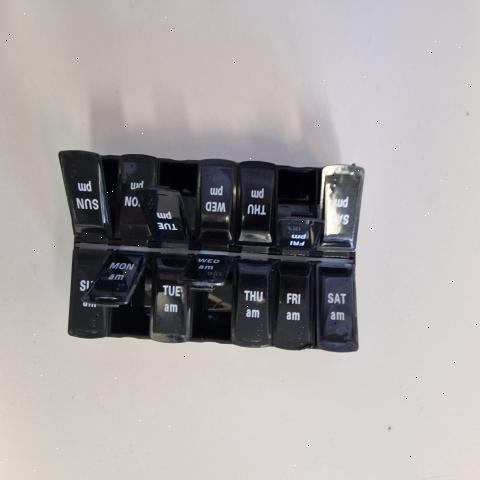Open: (82, 254, 156, 338), (179, 259, 235, 341), (135, 164, 195, 240), (276, 168, 322, 246), (102, 157, 119, 239), (311, 264, 320, 352)
